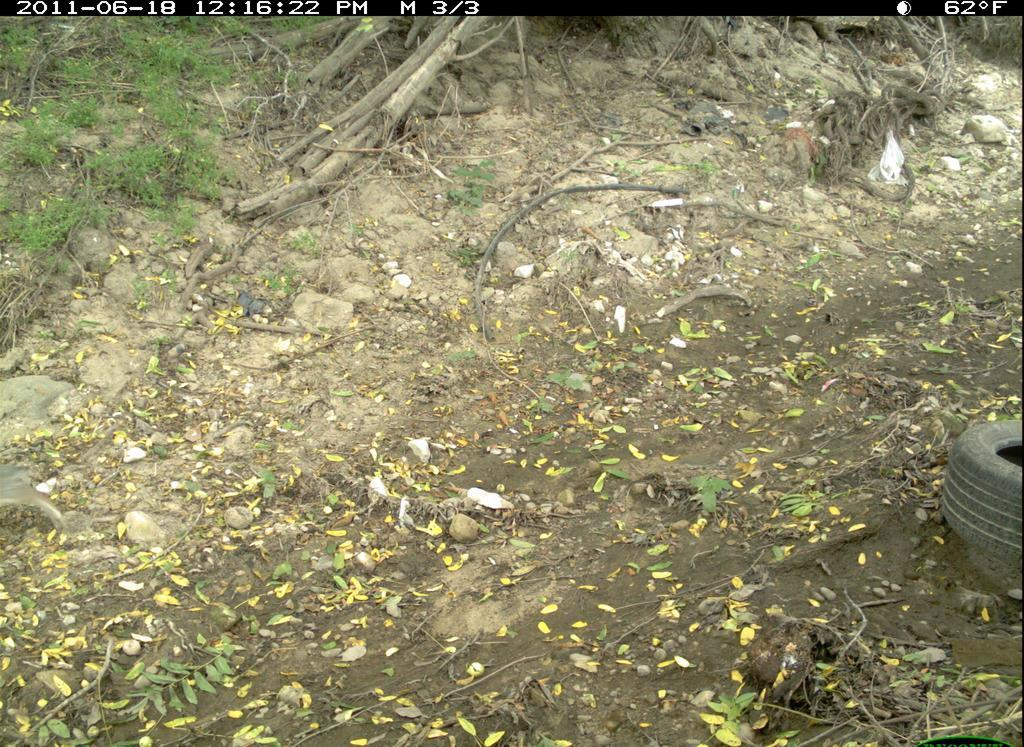rabbit: (1, 451, 73, 542)
